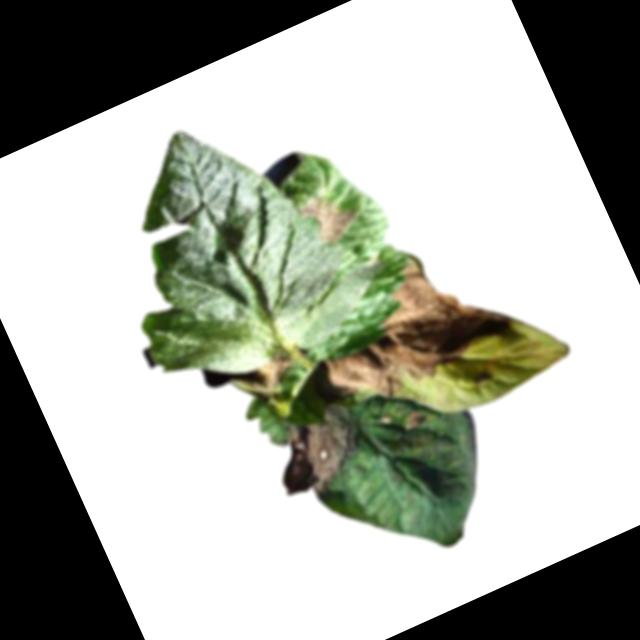Late_blight: (285, 234, 519, 422), (255, 391, 374, 504), (293, 183, 365, 252), (231, 353, 300, 407), (396, 404, 425, 433)
healthy: (72, 80, 394, 407)
